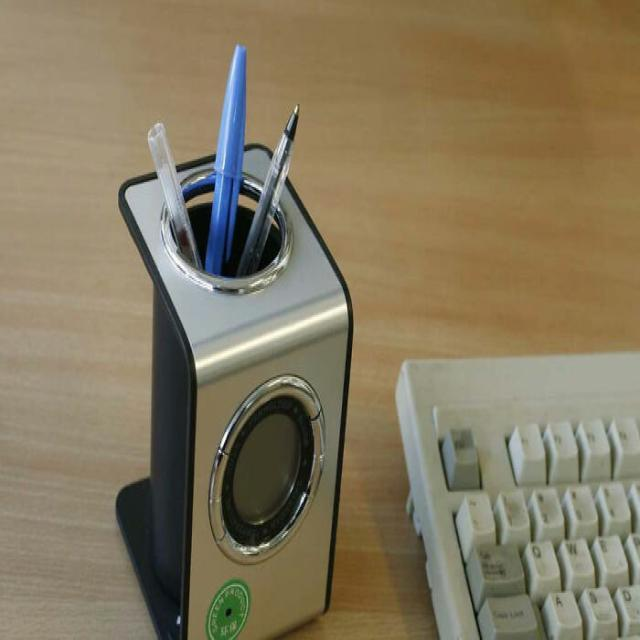hidden camera: (224, 603, 234, 626)
